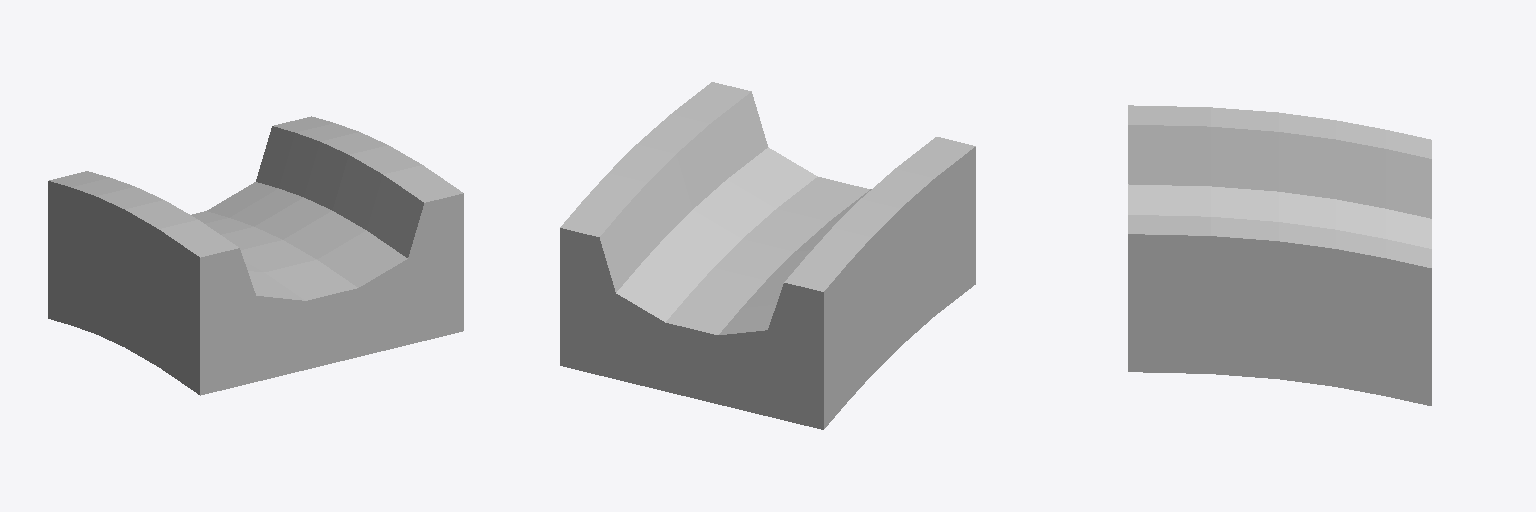
The model's file is ramp-end-a.obj.
3 renders of one model, left to right at view 1: azimuth 30°, elevation 25°; view 2: azimuth 150°, elevation 25°; view 3: azimuth 270°, elevation 25°, orthographic.
Visible parts, largest first — view 1: ramp-end-a; view 2: ramp-end-a; view 3: ramp-end-a.
Boxes of the visible parts, <box> form: ramp-end-a: <box>48,116,463,395</box>; ramp-end-a: <box>560,82,975,429</box>; ramp-end-a: <box>1128,105,1431,405</box>.
Bounding box in the file's own units: 1 × 0.625 × 1.